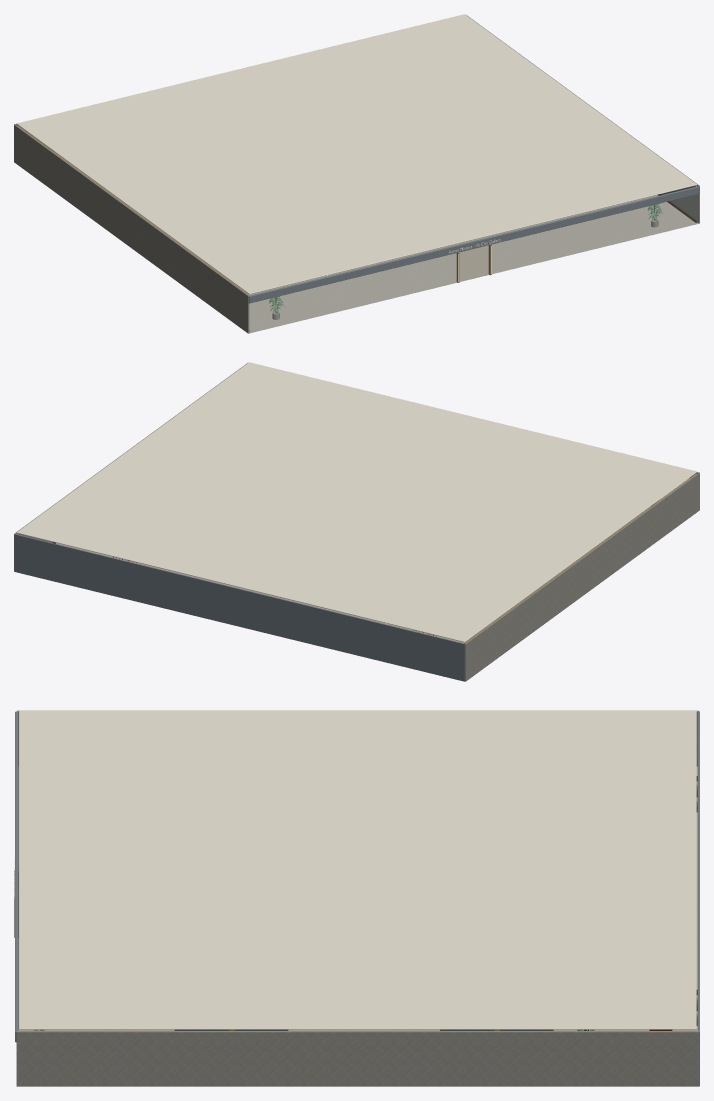
The model's file is auto-gallery.glb.
3 views of the same model, one above another, from view 1: azimuth 30°, elevation 25°; view 2: azimuth 150°, elevation 25°; view 3: azimuth 270°, elevation 25° (orthographic). The views are drawn at different scales.
Visible parts, largest first — view 1: Batched AUR-L3-AUTO-GALLERY::Warm porcelain, Batched AUR-L3-AUTO-GALLERY::Cream marble, Batched AUR-L3-AUTO-GALLERY::Tenant glass, Batched AUR-L3-AUTO-GALLERY::Travertine, Batched AUR-L3-AUTO-GALLERY::Tenant auto-gallery, Batched AUR-L3-AUTO-GALLERY::Bronze; view 2: Batched AUR-L3-AUTO-GALLERY::Warm porcelain, Batched AUR-L3-AUTO-GALLERY::Tenant auto-gallery, Batched AUR-L3-AUTO-GALLERY::Travertine, Batched AUR-L3-AUTO-GALLERY::Cream marble; view 3: Batched AUR-L3-AUTO-GALLERY::Warm porcelain, Batched AUR-L3-AUTO-GALLERY::Travertine, Batched AUR-L3-AUTO-GALLERY::Tenant auto-gallery, Batched AUR-L3-AUTO-GALLERY::Cream marble, Batched AUR-L3-AUTO-GALLERY::Bronze.
Part boxes in pixels (box(x1,y1,x2,y2)): Batched AUR-L3-AUTO-GALLERY::Warm porcelain: box(16, 14, 697, 294); Batched AUR-L3-AUTO-GALLERY::Cream marble: box(55, 152, 698, 333); Batched AUR-L3-AUTO-GALLERY::Tenant glass: box(249, 194, 698, 332); Batched AUR-L3-AUTO-GALLERY::Travertine: box(14, 15, 699, 333); Batched AUR-L3-AUTO-GALLERY::Tenant auto-gallery: box(14, 124, 699, 303); Batched AUR-L3-AUTO-GALLERY::Bronze: box(17, 125, 696, 295); Batched AUR-L3-AUTO-GALLERY::Warm porcelain: box(16, 362, 697, 642); Batched AUR-L3-AUTO-GALLERY::Tenant auto-gallery: box(14, 472, 699, 681); Batched AUR-L3-AUTO-GALLERY::Travertine: box(14, 363, 699, 681); Batched AUR-L3-AUTO-GALLERY::Cream marble: box(56, 500, 658, 643); Batched AUR-L3-AUTO-GALLERY::Warm porcelain: box(14, 710, 696, 1029); Batched AUR-L3-AUTO-GALLERY::Travertine: box(16, 710, 698, 1086); Batched AUR-L3-AUTO-GALLERY::Tenant auto-gallery: box(15, 711, 699, 1086); Batched AUR-L3-AUTO-GALLERY::Cream marble: box(18, 766, 697, 1031); Batched AUR-L3-AUTO-GALLERY::Bronze: box(14, 781, 697, 1031).
Size of the model in its own units: 60.16 by 4.97 by 54.29.
Materials: 15 (4 with a texture image).
